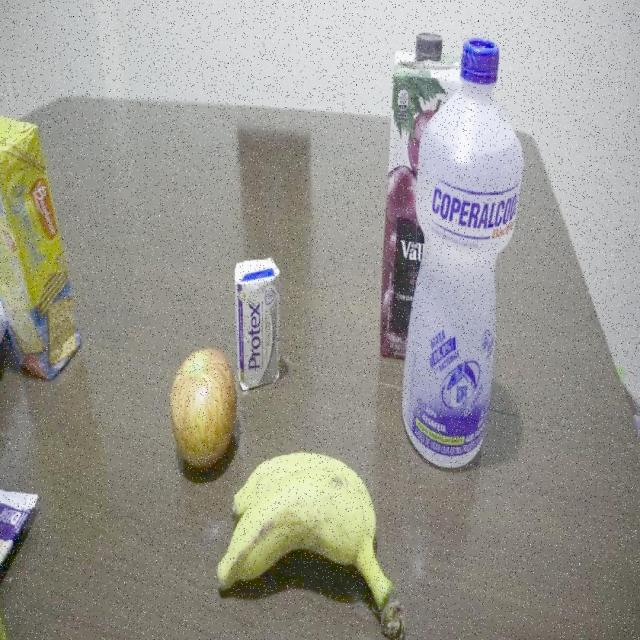AlcoholBottle: (399, 36, 525, 472)
Apple: (168, 347, 240, 476)
Banana: (216, 450, 407, 636)
Cracker: (0, 106, 84, 382)
Popcorn: (0, 462, 39, 586)
Soap: (232, 257, 284, 388)
